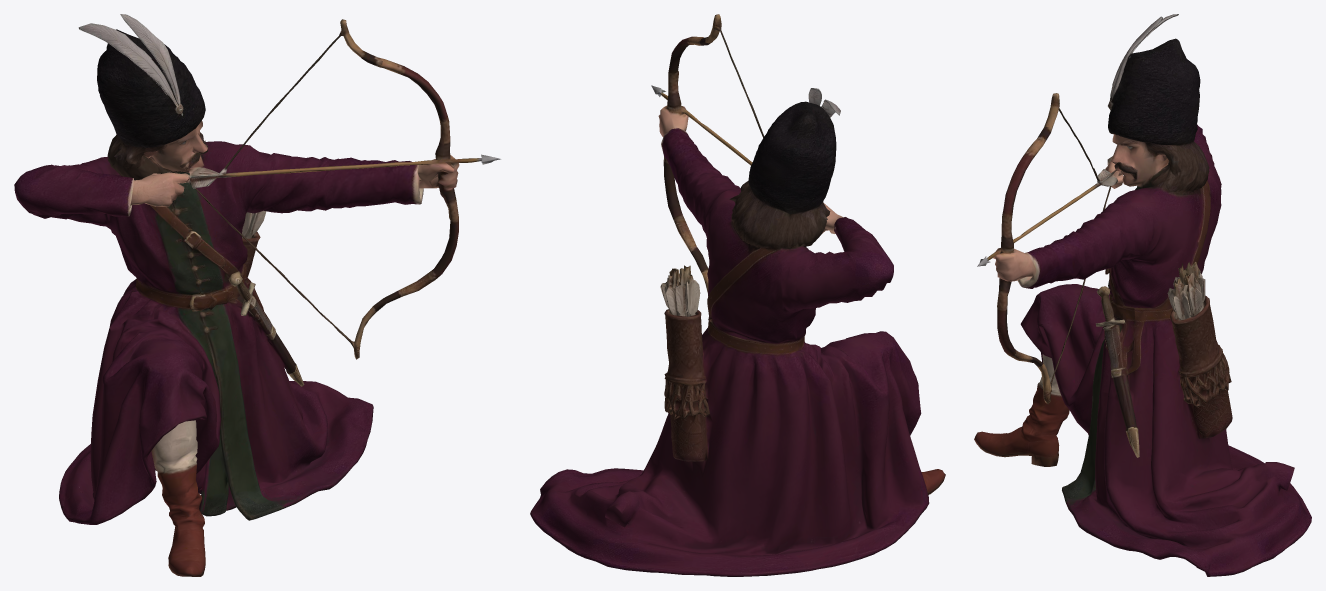
File: eflakli-yardimci-okcu-1580-tripo-v1.glb
3 renders of one model, left to right at view 1: azimuth 30°, elevation 25°; view 2: azimuth 150°, elevation 25°; view 3: azimuth 270°, elevation 25°, orthographic. The views are drawn at different scales.
Visible parts, largest first — view 1: tripo_node_0833a868-b2fa-45bb-bceb-0577ef951bcb; view 2: tripo_node_0833a868-b2fa-45bb-bceb-0577ef951bcb; view 3: tripo_node_0833a868-b2fa-45bb-bceb-0577ef951bcb.
Part boxes in pixels (bbox=[...]): tripo_node_0833a868-b2fa-45bb-bceb-0577ef951bcb: bbox=[14, 14, 500, 576]; tripo_node_0833a868-b2fa-45bb-bceb-0577ef951bcb: bbox=[530, 14, 945, 576]; tripo_node_0833a868-b2fa-45bb-bceb-0577ef951bcb: bbox=[974, 14, 1311, 576].
Bounding box in the file's own units: 0.7908 × 1 × 0.6887.
1 material, 1 textured.
